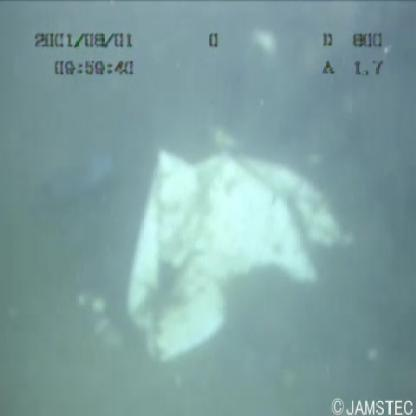Rác: (101, 110, 346, 374)
